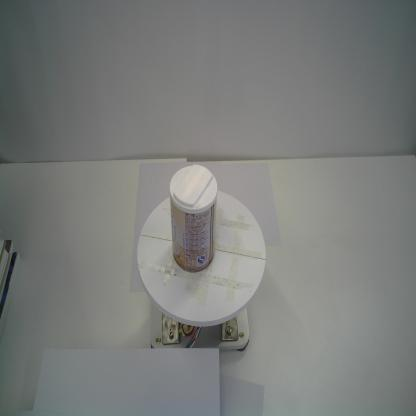Canned Food: (168, 162, 219, 276)
